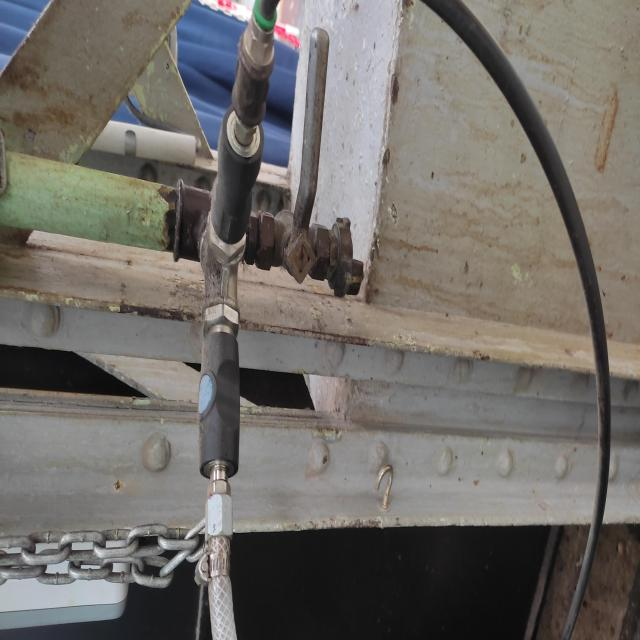closed_valve: (270, 24, 335, 292)
